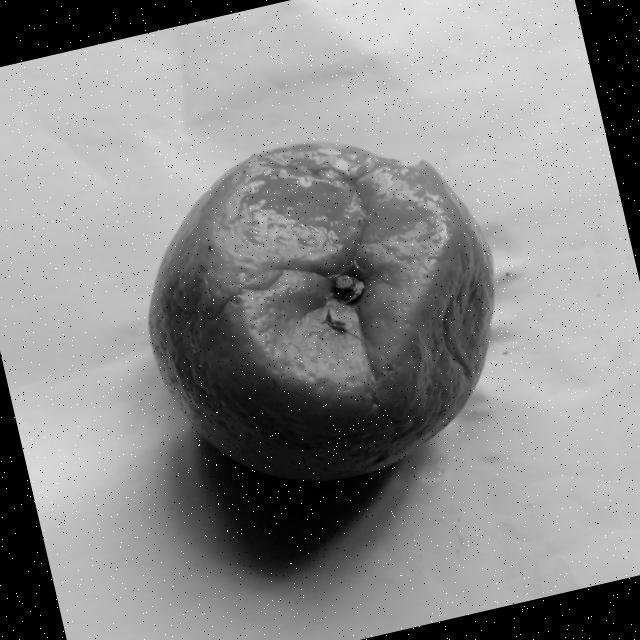Rotten: (111, 103, 534, 516)
